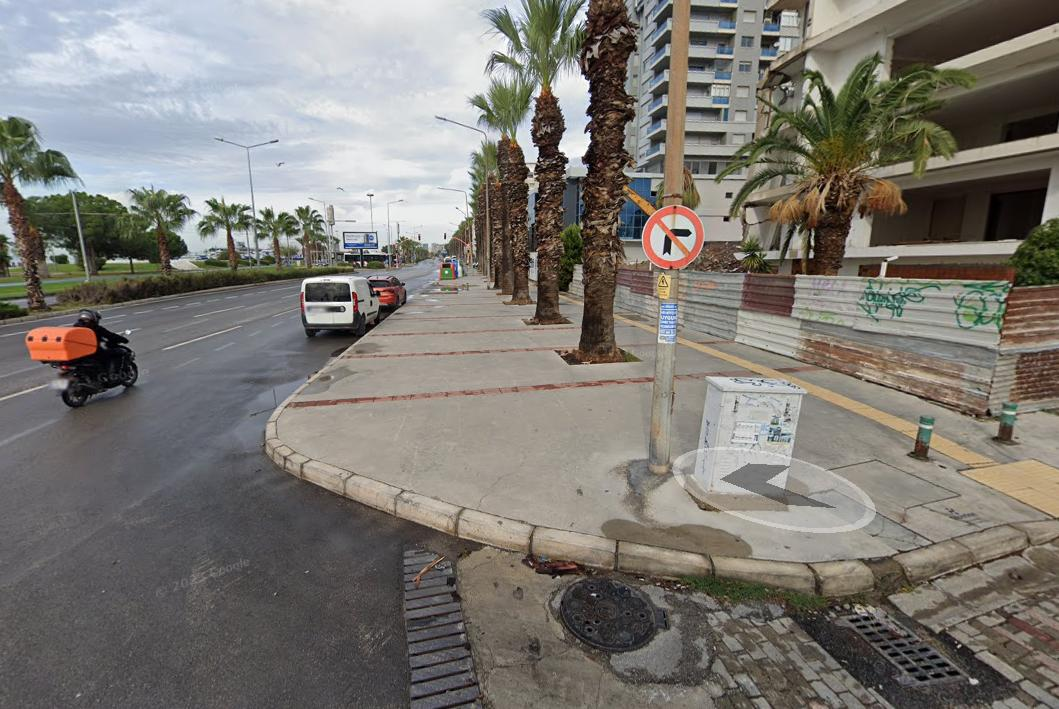rightturnsareforbidden: (646, 205, 703, 268)
